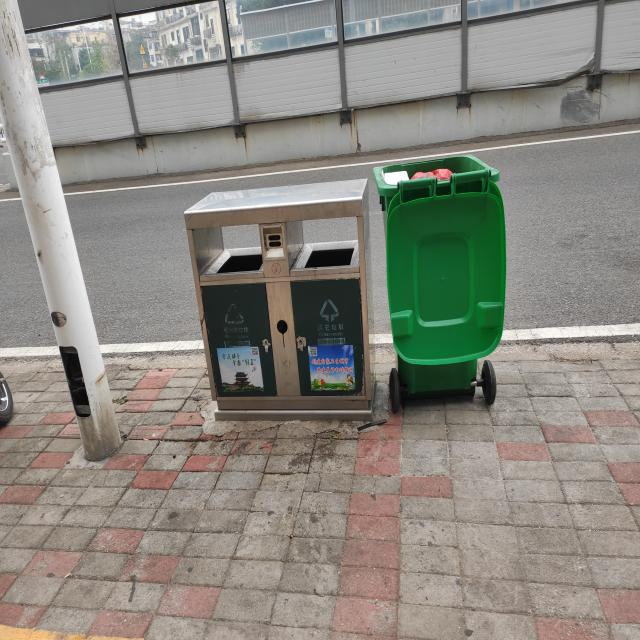ash bin: (182, 177, 377, 425), (371, 150, 507, 414)
pole: (3, 3, 124, 458)
